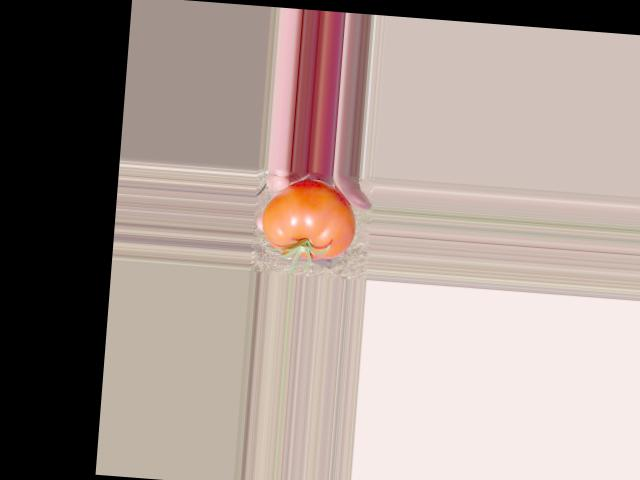tomato: (259, 176, 358, 262)
